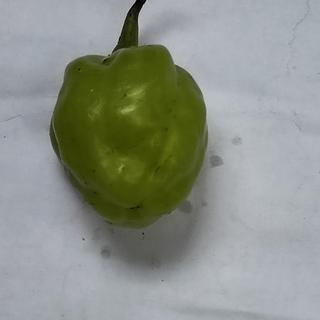Grade-A: (48, 40, 211, 230)
